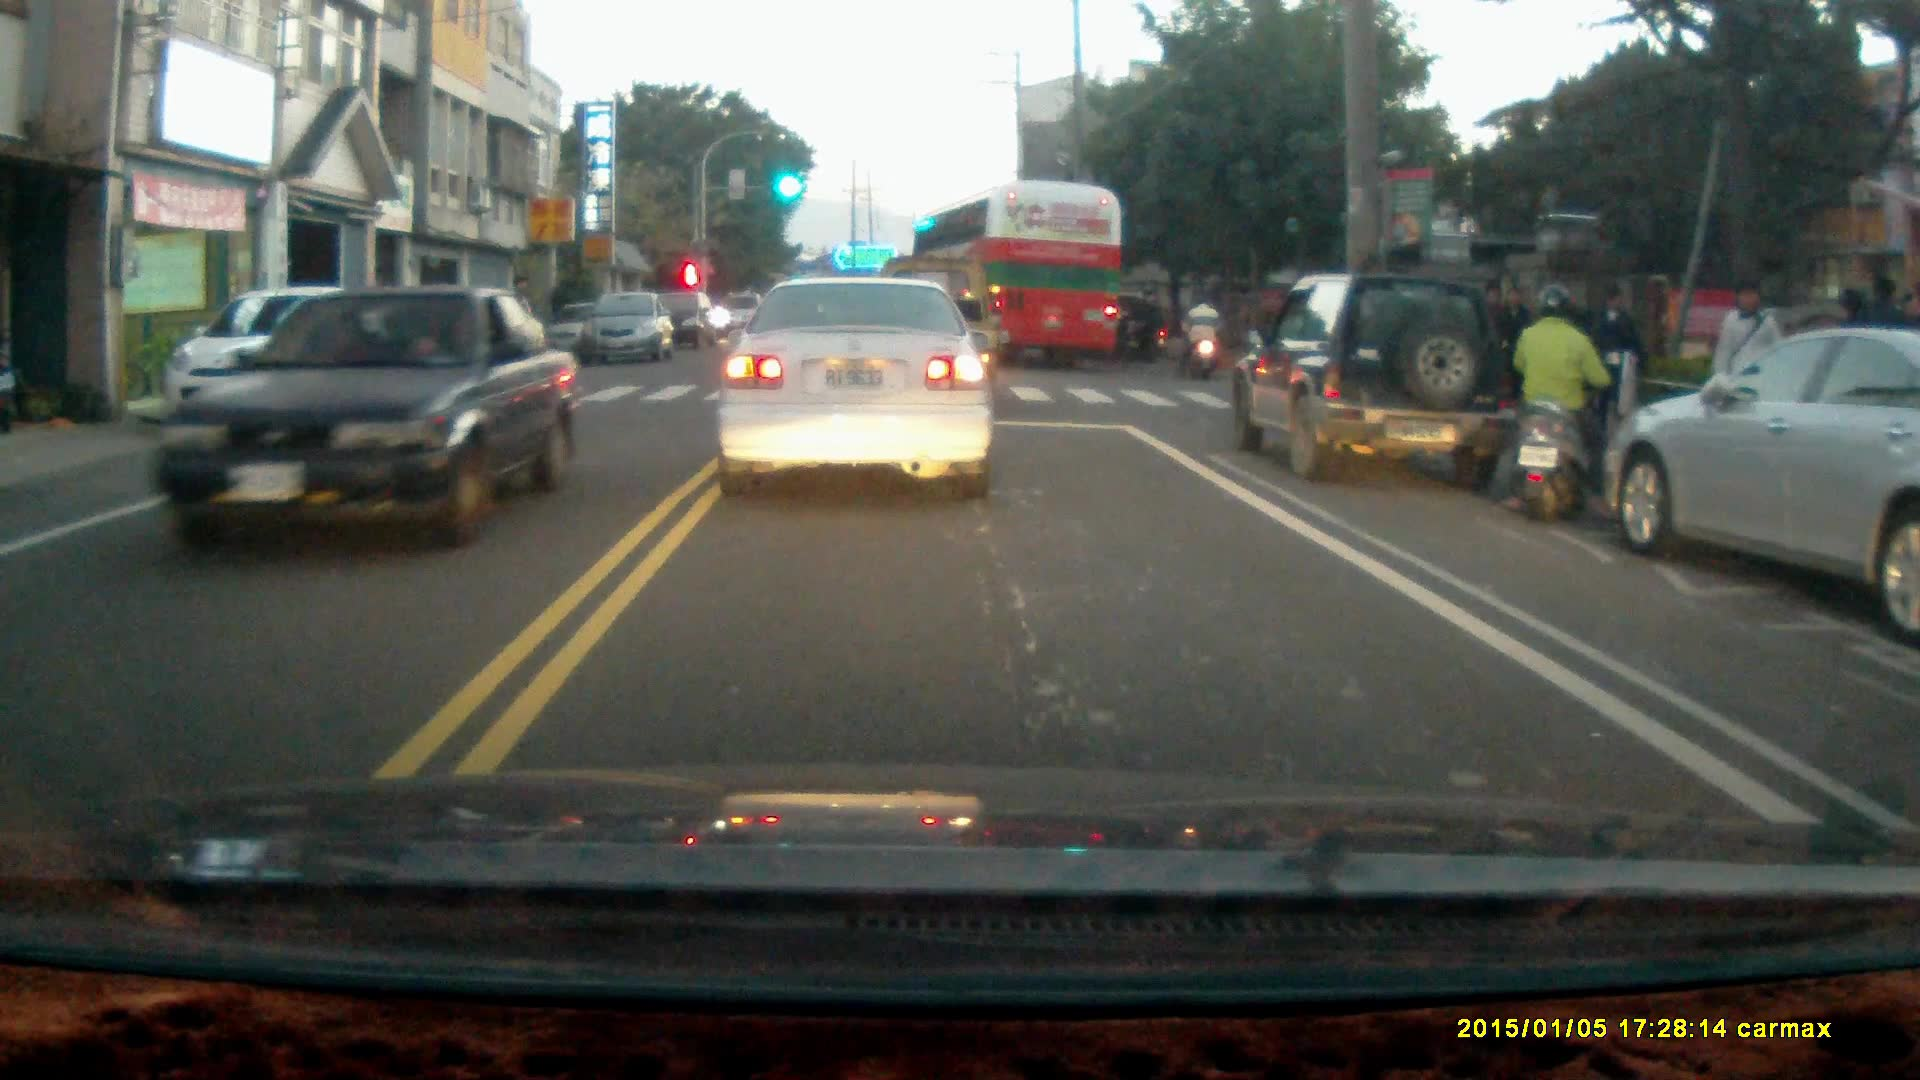pedestrian: (1709, 274, 1785, 442), (1588, 282, 1643, 446)
rider: (1503, 284, 1620, 523), (1108, 291, 1171, 364), (1180, 289, 1223, 377)
vehicle: (140, 281, 591, 556), (1607, 331, 1920, 644), (714, 271, 1002, 503), (1225, 274, 1521, 487), (904, 179, 1127, 370), (583, 291, 678, 367), (639, 286, 724, 355)
